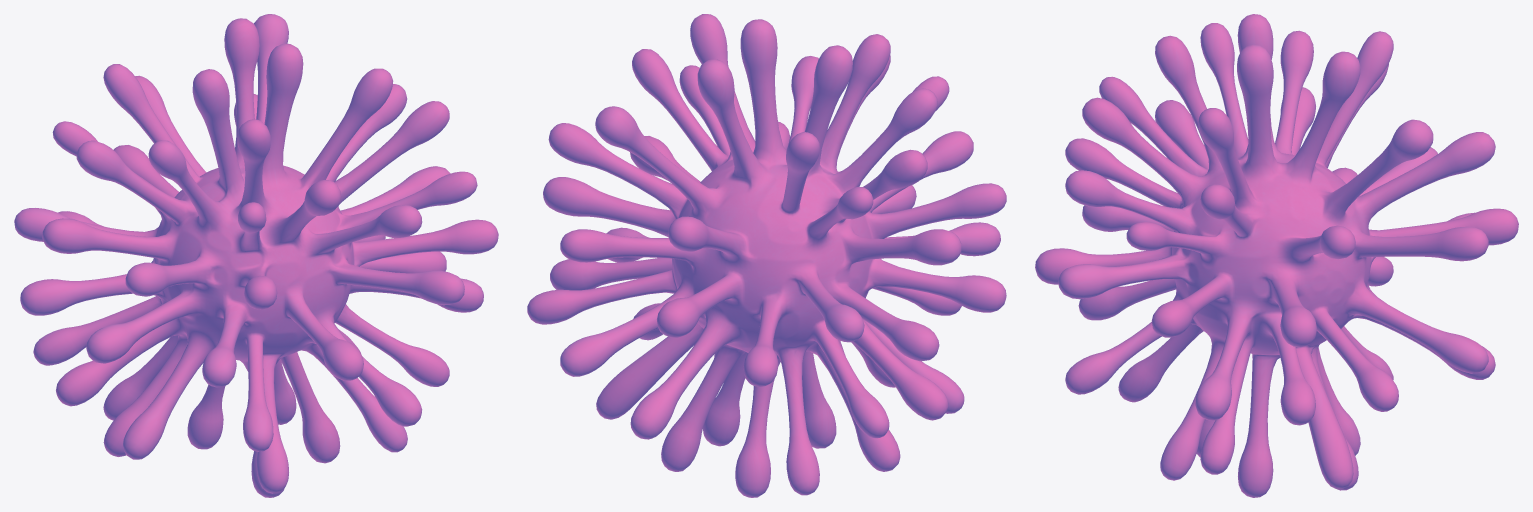
3 renders of one model, left to right at view 1: azimuth 30°, elevation 25°; view 2: azimuth 150°, elevation 25°; view 3: azimuth 270°, elevation 25°, orthographic.
Visible parts, largest first — view 1: Corona VIrus; view 2: Corona VIrus; view 3: Corona VIrus.
Boxes of the visible parts, x1,y1,x2,y2 form: Corona VIrus: (14, 14, 498, 497); Corona VIrus: (527, 14, 1006, 497); Corona VIrus: (1035, 14, 1518, 497).
Bounding box in the file's own units: 398 × 398 × 404.
1 material, 1 textured.
